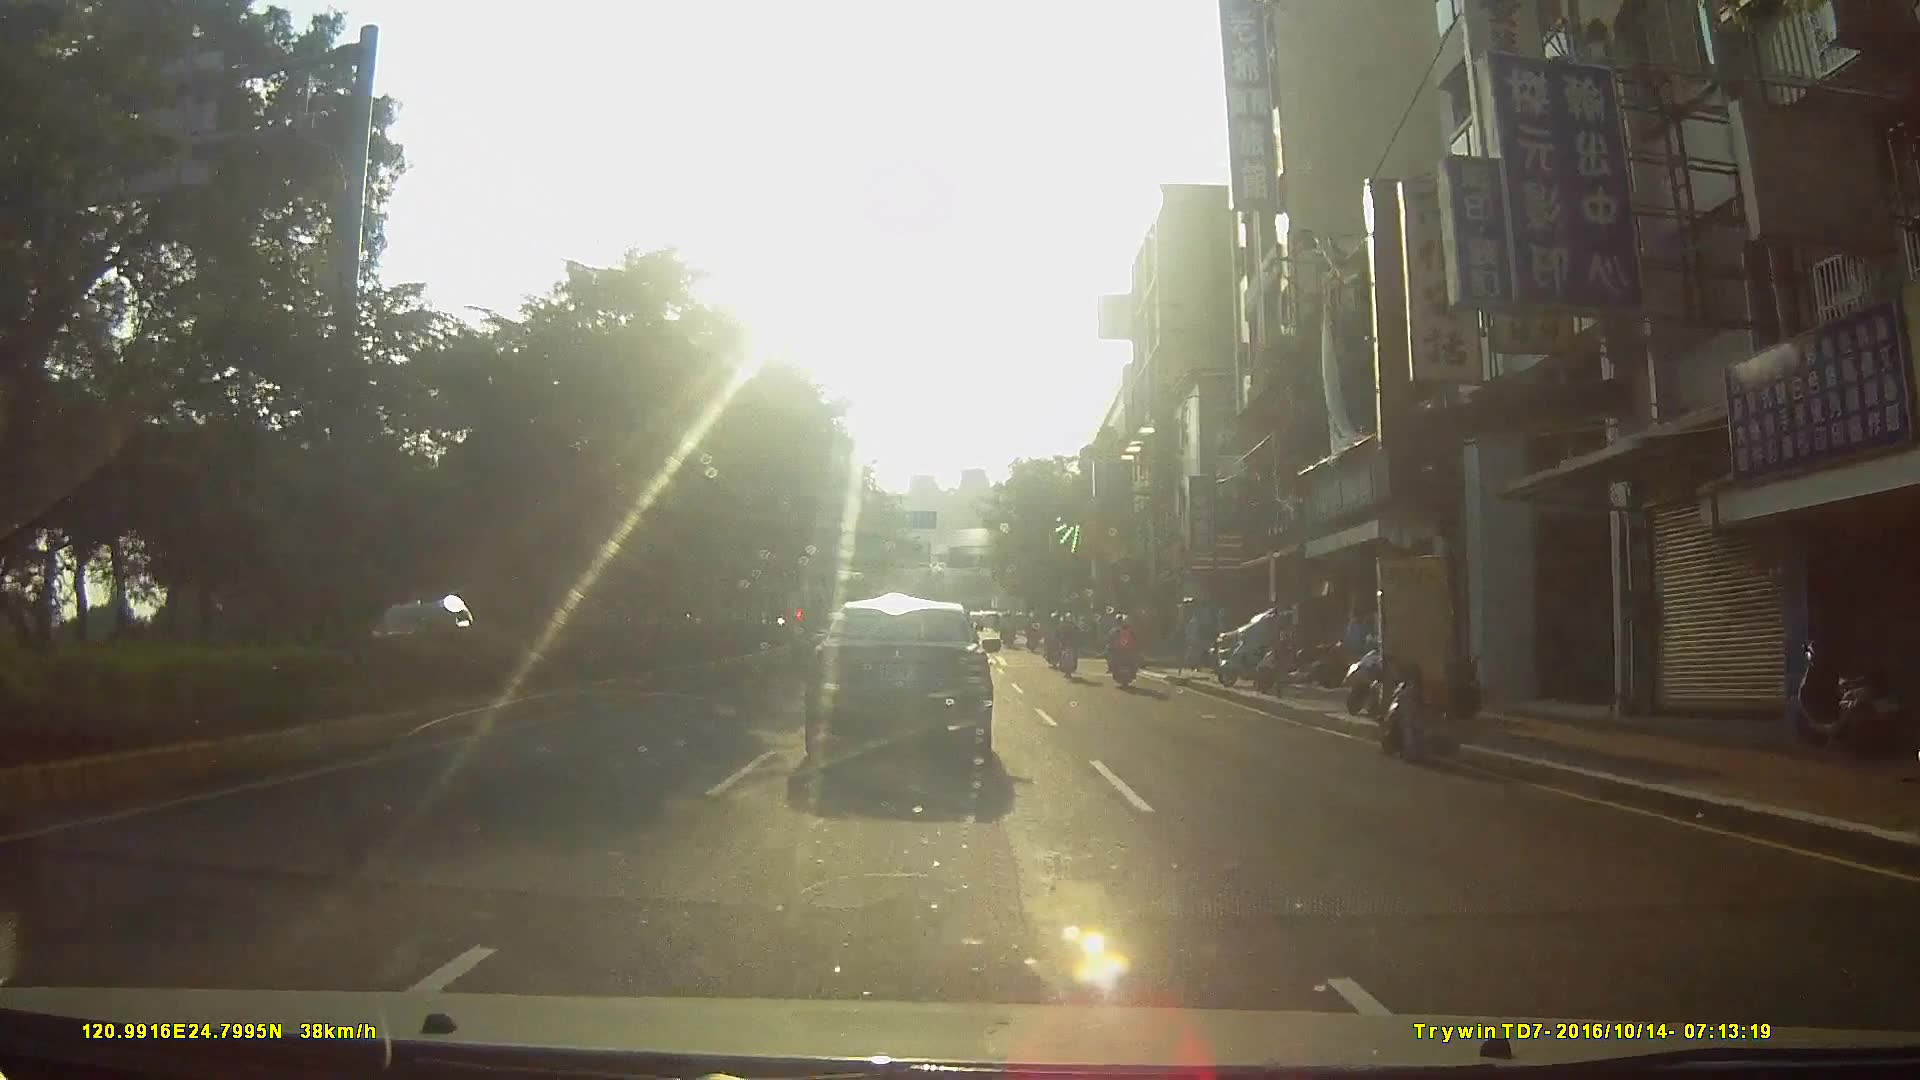rider: (1106, 613, 1139, 690), (1056, 612, 1082, 680), (1043, 613, 1067, 671)
vehicle: (802, 597, 1017, 788)
